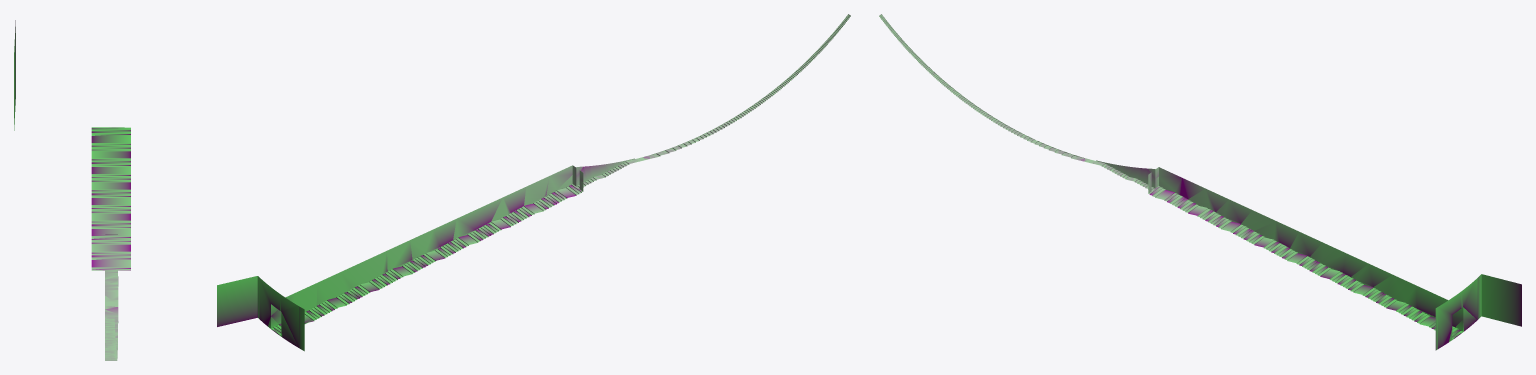
The model's file is entryStair.glb.
3 views of the same model, side by side, from view 1: azimuth 90°, elevation 25°; view 2: azimuth 210°, elevation 25°; view 3: azimuth 330°, elevation 25° (orthographic). The views are drawn at different scales.
Parts seen in each view (by area): view 1: entryStair; view 2: entryStair; view 3: entryStair.
Part boxes in pixels (x1,y1,x2,y2): entryStair: [14, 20, 130, 360]; entryStair: [217, 14, 850, 351]; entryStair: [879, 14, 1521, 350].
Bounding box in the file's own units: 153 × 42.55 × 20.23.
